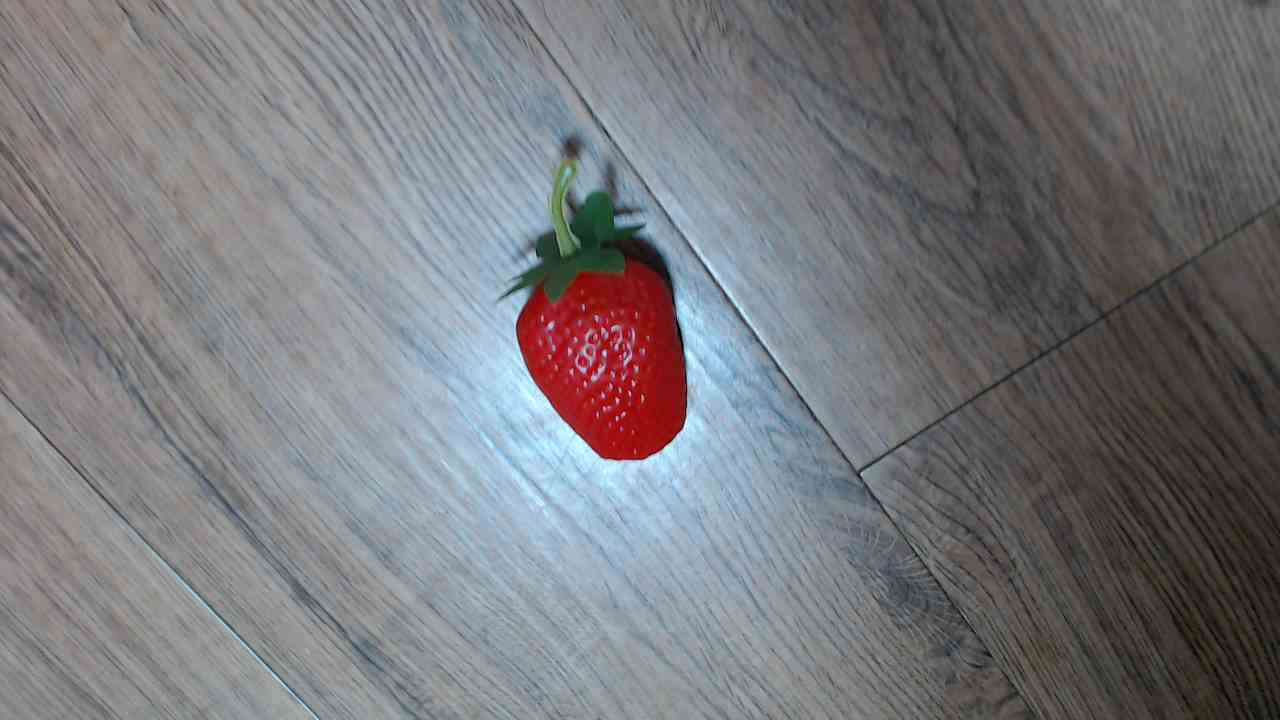strawberry: (497, 207, 699, 465)
